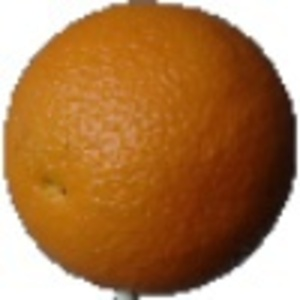laranja: (6, 2, 291, 295)
